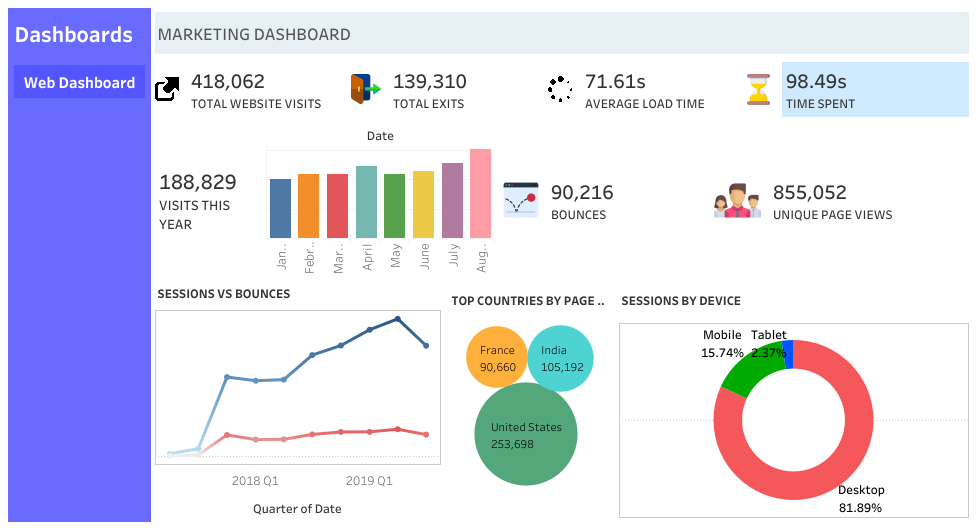

This screenshot's page, from the dashboard's own definition file:
{"tool":"tableau","page":{"name":"Dashboard 1","canvas":[1000,1000],"units":"permille","ordinal":0},"visuals":[{"type":"text","box":[6.9,14.7,146,93.8]},{"type":"text","box":[153,14.7,840.1,93.8]},{"type":"dashboard-object","box":[6.9,108.5,146,82.7]},{"type":"image","param":"C:/Users/Kamo/Downloads/external-link.png","box":[153,108.5,27.7,119.5]},{"type":"worksheet","title":"VISITS","mark":"Automatic","box":[180.7,108.5,172.6,119.5]},{"type":"image","param":"C:/Users/Kamo/Downloads/exit.png","box":[353.2,108.5,32.9,119.5]},{"type":"worksheet","title":"EXITS","mark":"Automatic","box":[386.1,108.5,167.4,119.5]},{"type":"image","param":"C:/Users/Kamo/Downloads/loading.png","box":[553.5,108.5,29.4,119.5]},{"type":"worksheet","title":"LOAD TIME","mark":"Automatic","box":[583,108.5,170.8,119.5]},{"type":"image","param":"C:/Users/Kamo/Downloads/hourglass.png","box":[753.8,108.5,33.8,119.5]},{"type":"worksheet","title":"TIME ON PAGE","mark":"Automatic","box":[787.6,108.5,205.5,119.5]},{"type":"worksheet","title":"LATEST YEAR VISITS","mark":"Automatic","box":[153,227.9,96.1,299.6]},{"type":"worksheet","title":"Latest Year Sessions","mark":"Bar","rows":["Sessions"],"cols":["Date"],"box":[249.1,227.9,260,299.6]},{"type":"image","param":"C:/Users/Kamo/Downloads/bounce-rate.png","box":[509.1,227.9,44.2,299.6]},{"type":"worksheet","title":"TOTAL BOUNCES","mark":"Automatic","box":[553.2,227.9,171.4,299.6]},{"type":"image","param":"C:/Users/Kamo/Downloads/team.png","box":[724.7,227.9,47.6,299.6]},{"type":"worksheet","title":"UNIQUE PAGE VIEWS","mark":"Automatic","box":[772.3,227.9,220.8,299.6]},{"type":"text","box":[153,527.6,300.7,46]},{"type":"text","box":[453.7,527.6,174,46]},{"type":"text","box":[627.7,527.6,365.4,73.5]},{"type":"worksheet","title":"SESSIONS VS BOUNCES","mark":"Automatic","rows":["Sessions","Bounces"],"cols":["Date"],"box":[153,573.5,300.7,411.8]},{"type":"worksheet","title":"TOP BY COUNTY","mark":"Circle","box":[453.7,601.1,174,362.1]},{"type":"worksheet","title":"VISITS BY DEVICE","mark":"Pie","rows":["Calculation_228839198454648834","Calculation_228839198454648834"],"box":[627.7,601.1,365.4,384.2]}]}

Visuals, with their boxes on the dashboard's canvas, which has no fixed pixel size, in thousandths of its width and height (x1, y1, x2, y2). These are canvas units, not pixel positions in the 980x529 screenshot, which may show the page scaled, cropped or inside an application window:
text: {"x1": 7, "y1": 15, "x2": 153, "y2": 108}
text: {"x1": 153, "y1": 15, "x2": 993, "y2": 108}
dashboard-object: {"x1": 7, "y1": 108, "x2": 153, "y2": 191}
image: {"x1": 153, "y1": 108, "x2": 181, "y2": 228}
"VISITS" worksheet: {"x1": 181, "y1": 108, "x2": 353, "y2": 228}
image: {"x1": 353, "y1": 108, "x2": 386, "y2": 228}
"EXITS" worksheet: {"x1": 386, "y1": 108, "x2": 554, "y2": 228}
image: {"x1": 554, "y1": 108, "x2": 583, "y2": 228}
"LOAD TIME" worksheet: {"x1": 583, "y1": 108, "x2": 754, "y2": 228}
image: {"x1": 754, "y1": 108, "x2": 788, "y2": 228}
"TIME ON PAGE" worksheet: {"x1": 788, "y1": 108, "x2": 993, "y2": 228}
"LATEST YEAR VISITS" worksheet: {"x1": 153, "y1": 228, "x2": 249, "y2": 528}
"Latest Year Sessions" worksheet (Bar marks): {"x1": 249, "y1": 228, "x2": 509, "y2": 528}
image: {"x1": 509, "y1": 228, "x2": 553, "y2": 528}
"TOTAL BOUNCES" worksheet: {"x1": 553, "y1": 228, "x2": 725, "y2": 528}
image: {"x1": 725, "y1": 228, "x2": 772, "y2": 528}
"UNIQUE PAGE VIEWS" worksheet: {"x1": 772, "y1": 228, "x2": 993, "y2": 528}
text: {"x1": 153, "y1": 528, "x2": 454, "y2": 574}
text: {"x1": 454, "y1": 528, "x2": 628, "y2": 574}
text: {"x1": 628, "y1": 528, "x2": 993, "y2": 601}
"SESSIONS VS BOUNCES" worksheet: {"x1": 153, "y1": 574, "x2": 454, "y2": 985}
"TOP BY COUNTY" worksheet (Circle marks): {"x1": 454, "y1": 601, "x2": 628, "y2": 963}
"VISITS BY DEVICE" worksheet (Pie marks): {"x1": 628, "y1": 601, "x2": 993, "y2": 985}
